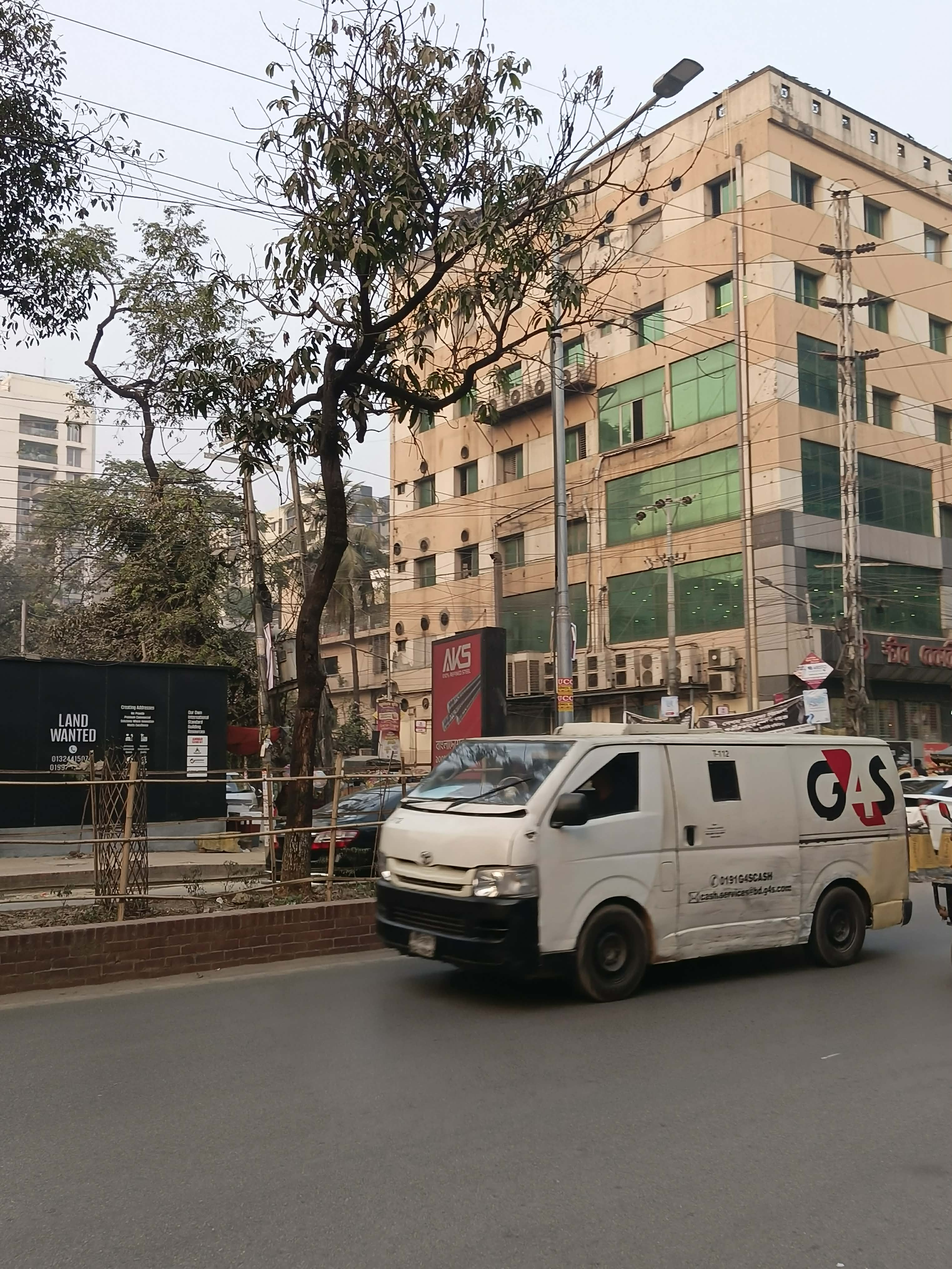private car: (387, 663, 952, 1077), (292, 791, 421, 886)
